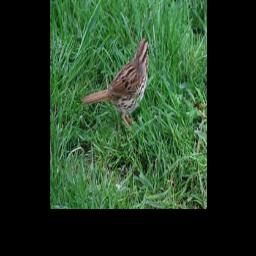Sparrow: (81, 33, 152, 131)
